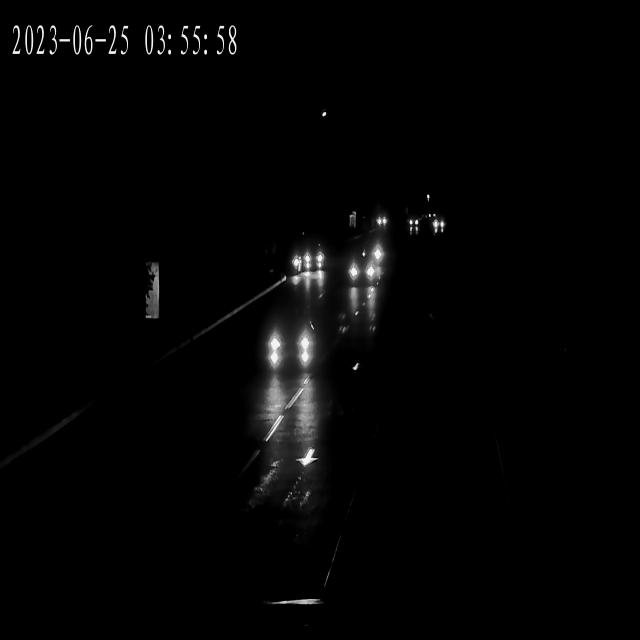Car: (260, 318, 319, 374), (345, 258, 381, 290), (359, 239, 387, 266), (303, 247, 327, 268), (298, 260, 326, 278), (301, 254, 324, 274), (370, 212, 390, 230), (290, 254, 308, 270), (406, 215, 422, 231), (428, 219, 446, 233)
